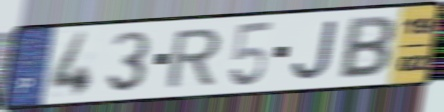3: (105, 29, 153, 93)
4: (48, 29, 95, 100)
5: (228, 19, 275, 88)
B: (336, 14, 398, 81)
J: (289, 18, 341, 82)
R: (164, 26, 224, 91)
